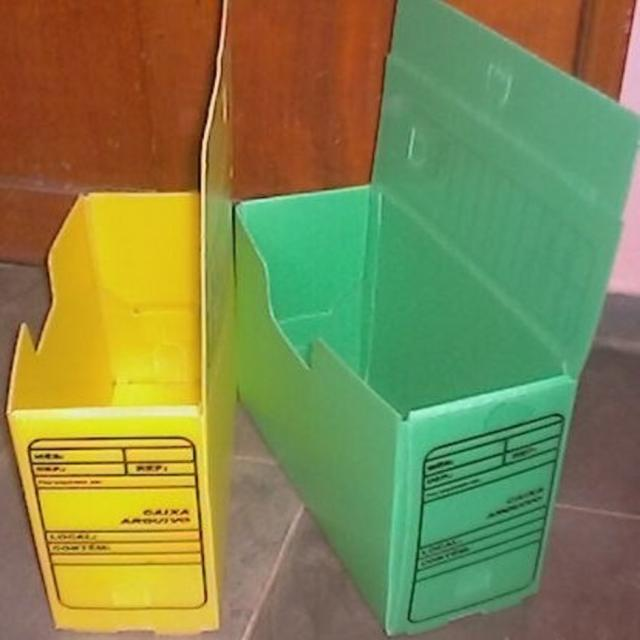Box: (234, 0, 639, 637), (6, 0, 233, 635)
